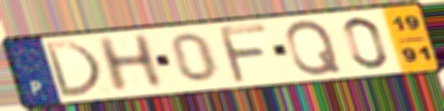0: (169, 31, 223, 85), (342, 15, 390, 70)
D: (41, 39, 105, 99)
F: (214, 22, 270, 85)
H: (92, 32, 168, 95)
Q: (283, 18, 345, 77)
